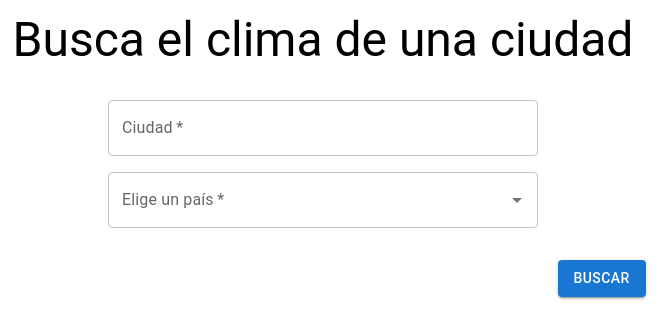
it: <TopPart /> › Send empty form
Click the button "Buscar": (602, 278) [558, 260, 646, 296]
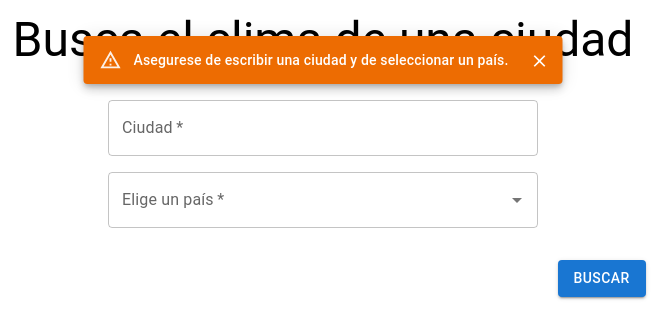
Expected: the message "Asegurese de escribir una ciudad y de seleccionar un país." is shown, [84, 36, 562, 84]
